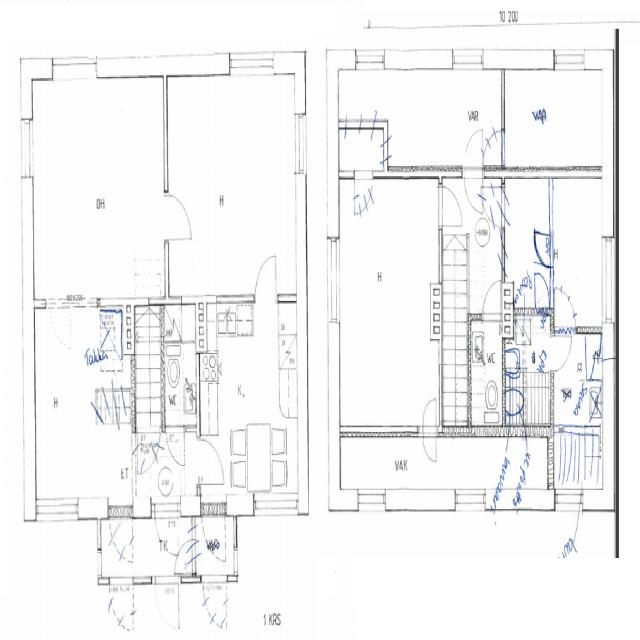door: (460, 123, 486, 210), (162, 188, 196, 246), (554, 491, 583, 552), (153, 572, 181, 632), (437, 178, 465, 236), (197, 434, 226, 490), (252, 251, 280, 308), (419, 395, 440, 467), (48, 299, 73, 354), (552, 283, 578, 333), (154, 504, 177, 554), (352, 172, 374, 219), (550, 332, 574, 374), (165, 422, 186, 470), (481, 278, 502, 320), (176, 537, 196, 577)
window: (324, 231, 344, 330), (50, 50, 99, 86), (227, 50, 277, 82), (18, 110, 38, 189), (292, 108, 310, 185), (251, 495, 298, 521), (453, 488, 489, 517), (356, 488, 388, 515), (451, 47, 484, 72)
zone: (31, 71, 168, 304), (166, 69, 297, 301), (337, 176, 442, 434), (34, 308, 135, 518), (200, 300, 298, 497), (501, 66, 610, 173), (550, 177, 610, 331), (502, 176, 552, 312), (134, 429, 198, 515), (504, 318, 552, 429), (552, 330, 604, 428), (469, 322, 503, 429), (162, 338, 198, 429), (195, 512, 236, 580), (252, 493, 296, 520)
